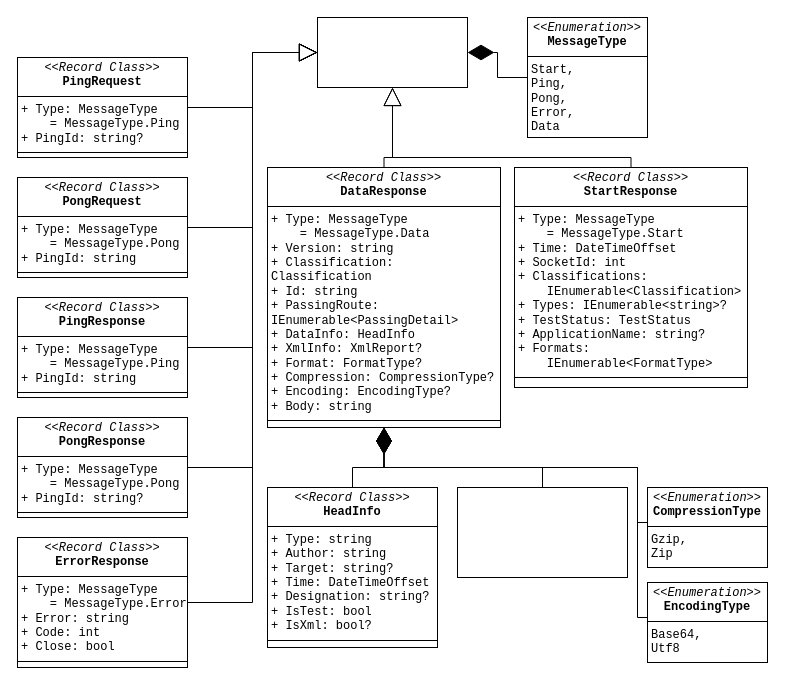
The diagram is 785 pixels wide and 685 high, and some of its shapes have lost their labels. Here are the shapes that lost their labels. From the top down, the centre of each, then its label:
At [392,52]: "<<Record Class>> ResponseBase + Type: MessageType".
At [542,532]: "<<Record Class>> PassingDetail + Name: string + Time: DateTimeOffset".
